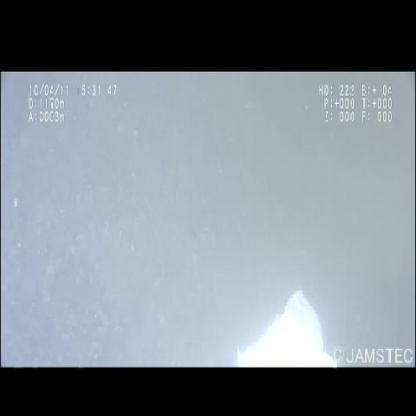Rác: (236, 290, 338, 369)
